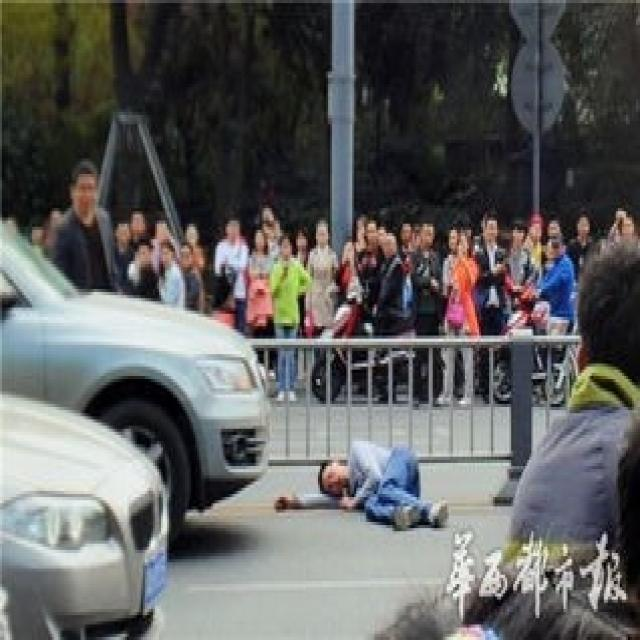10-: (0, 140, 636, 634)
down: (266, 422, 452, 540)
